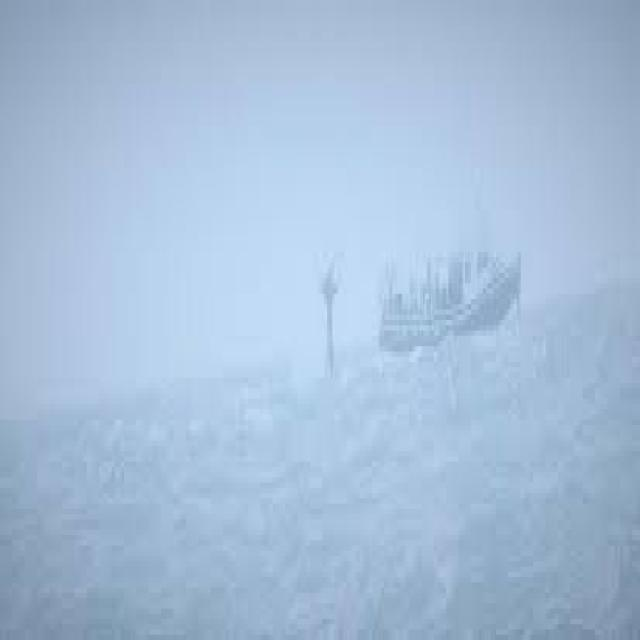fishing boat: (370, 206, 536, 360)
